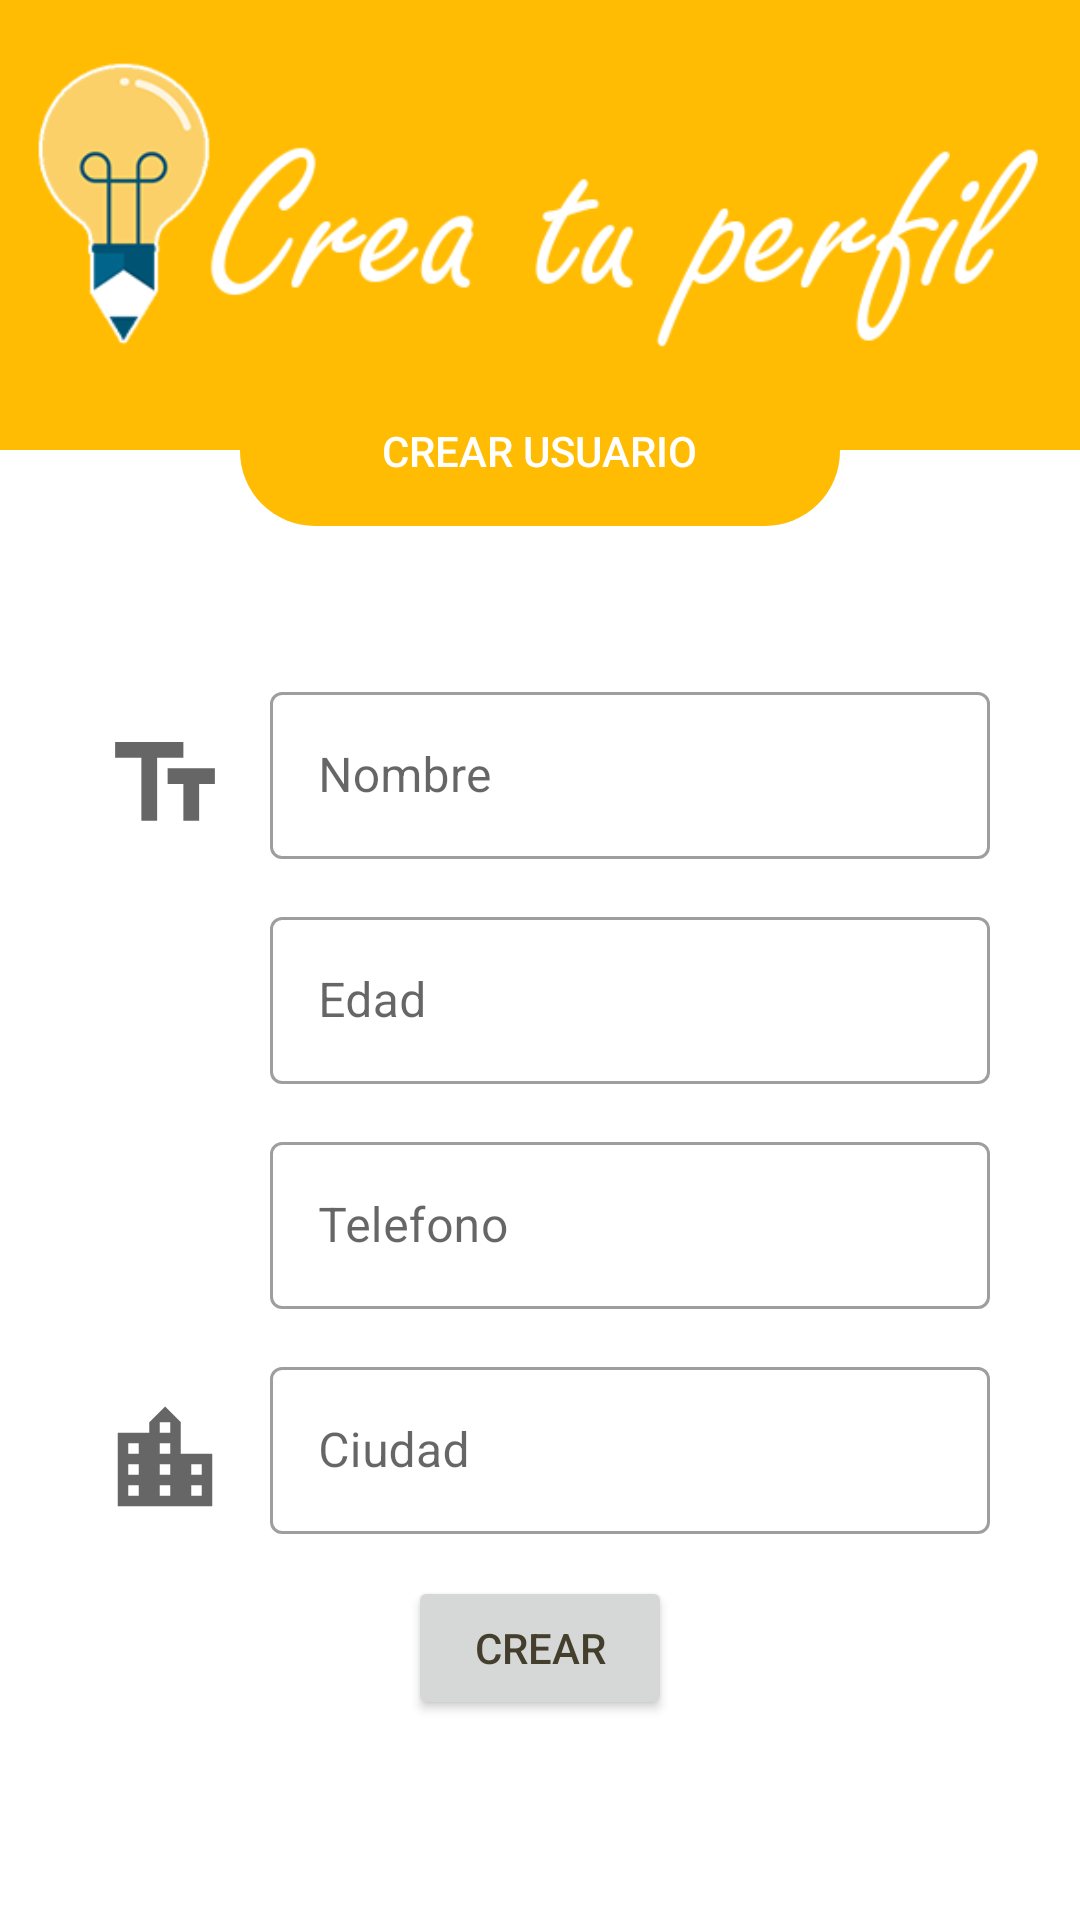

Icon click points for this 1080*1920 phone screenshot, format point (x, y):
location city: point (165, 1456)
text fields: point (165, 781)
